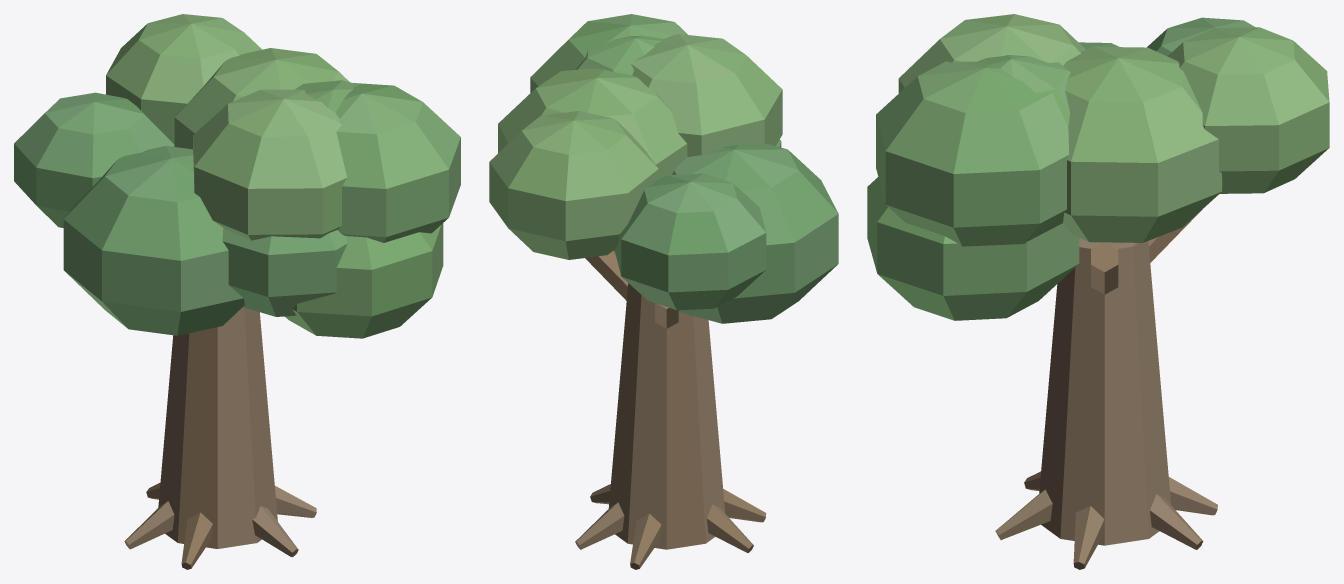
File: giant_tree.glb
The picture shows the model from 3 angles, left to right: view 1: azimuth 30°, elevation 25°; view 2: azimuth 150°, elevation 25°; view 3: azimuth 270°, elevation 25°; orthographic projection. The views are drawn at different scales.
Visible parts, largest first — view 1: giant_tree2; view 2: giant_tree2; view 3: giant_tree2.
Boxes of the visible parts, x1,y1,x2,y2 form: giant_tree2: (14,14,460,569); giant_tree2: (489,14,838,569); giant_tree2: (867,14,1329,569).
Bounding box in the file's own units: 13.18 × 17.97 × 14.74.
